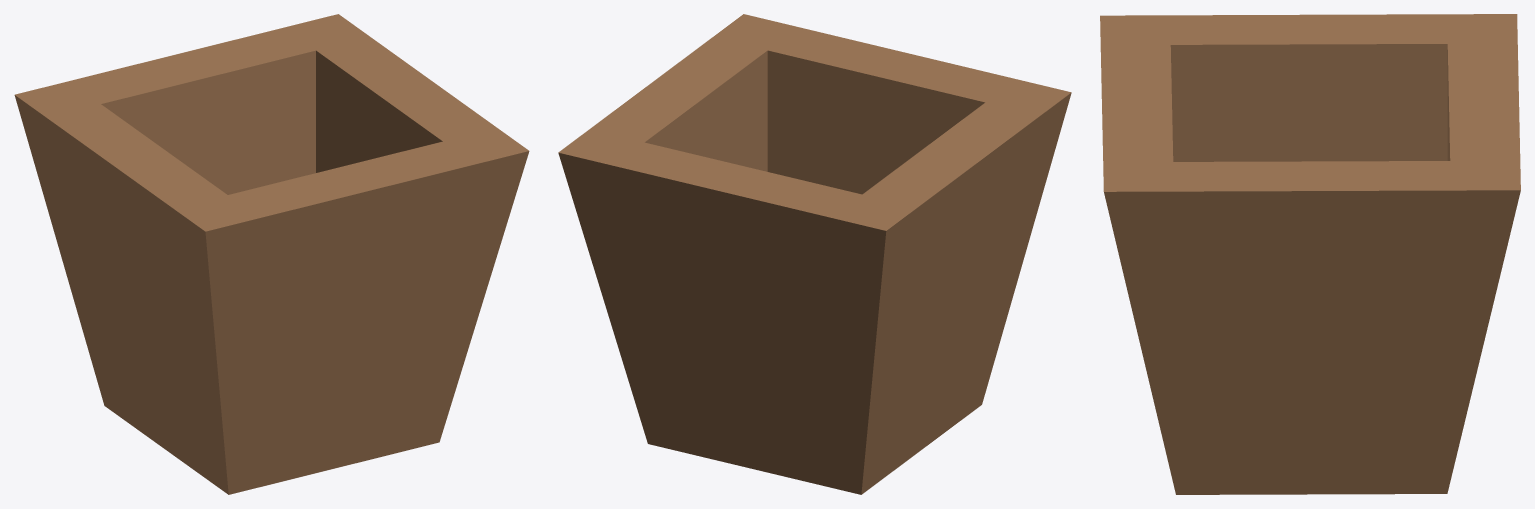
File: zhuangshi_13.FBX
The picture shows the model from 3 angles, left to right: view 1: azimuth 30°, elevation 25°; view 2: azimuth 150°, elevation 25°; view 3: azimuth 270°, elevation 25°; orthographic projection. The views are drawn at different scales.
Parts seen in each view (by area): view 1: zhuangshi_13; view 2: zhuangshi_13; view 3: zhuangshi_13.
Boxes of the visible parts, <box> form: zhuangshi_13: <box>14,14,529,494</box>; zhuangshi_13: <box>558,14,1071,494</box>; zhuangshi_13: <box>1100,14,1520,494</box>.
Bounding box in the file's own units: 245 × 215 × 245.
